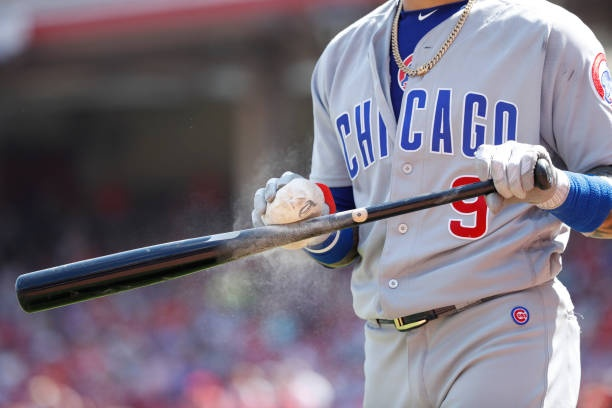bita: (15, 160, 552, 314)
